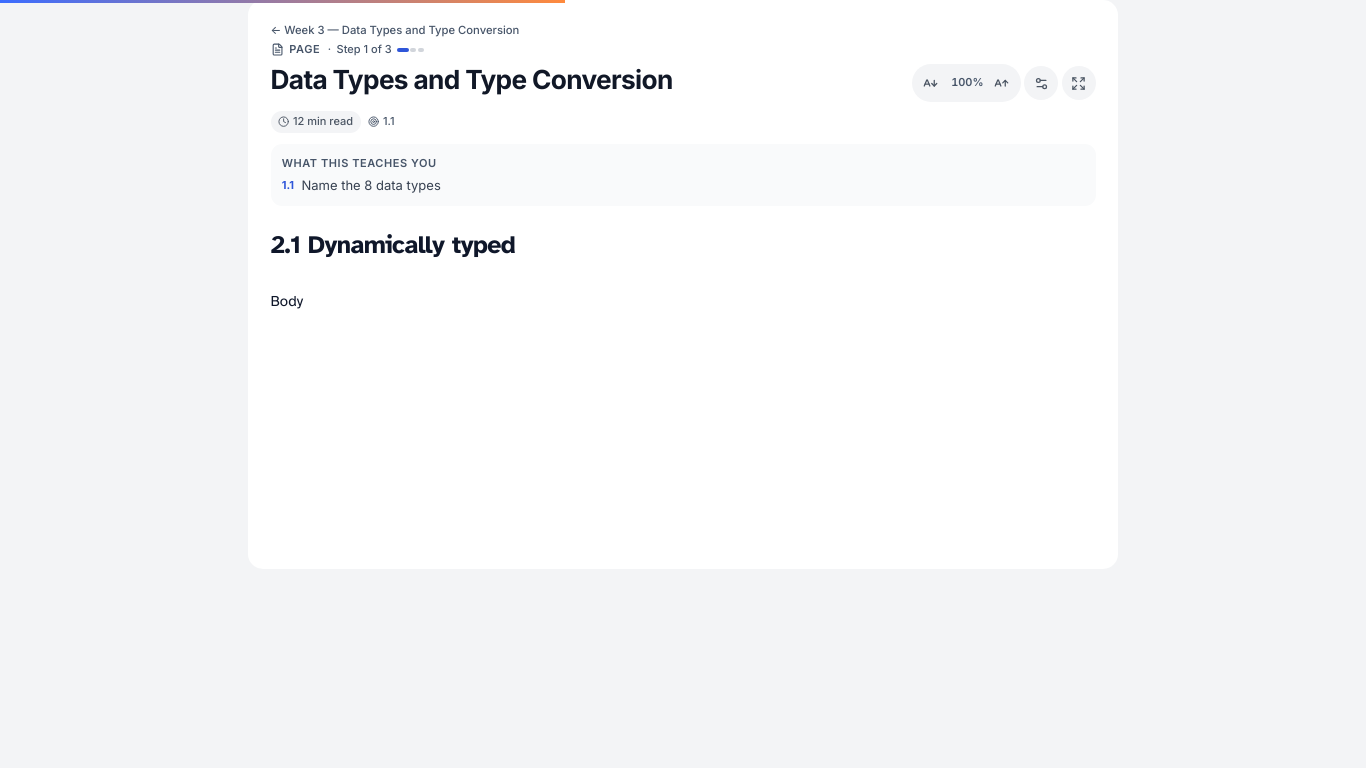
Test: ItemView — the lesson reader › opens an immersive reader that covers the app, and leaves it on Esc
The width and height of the screenshot is (1366, 768).
Click the button named "Focus mode" at (1079, 83), box [1062, 66, 1096, 100]
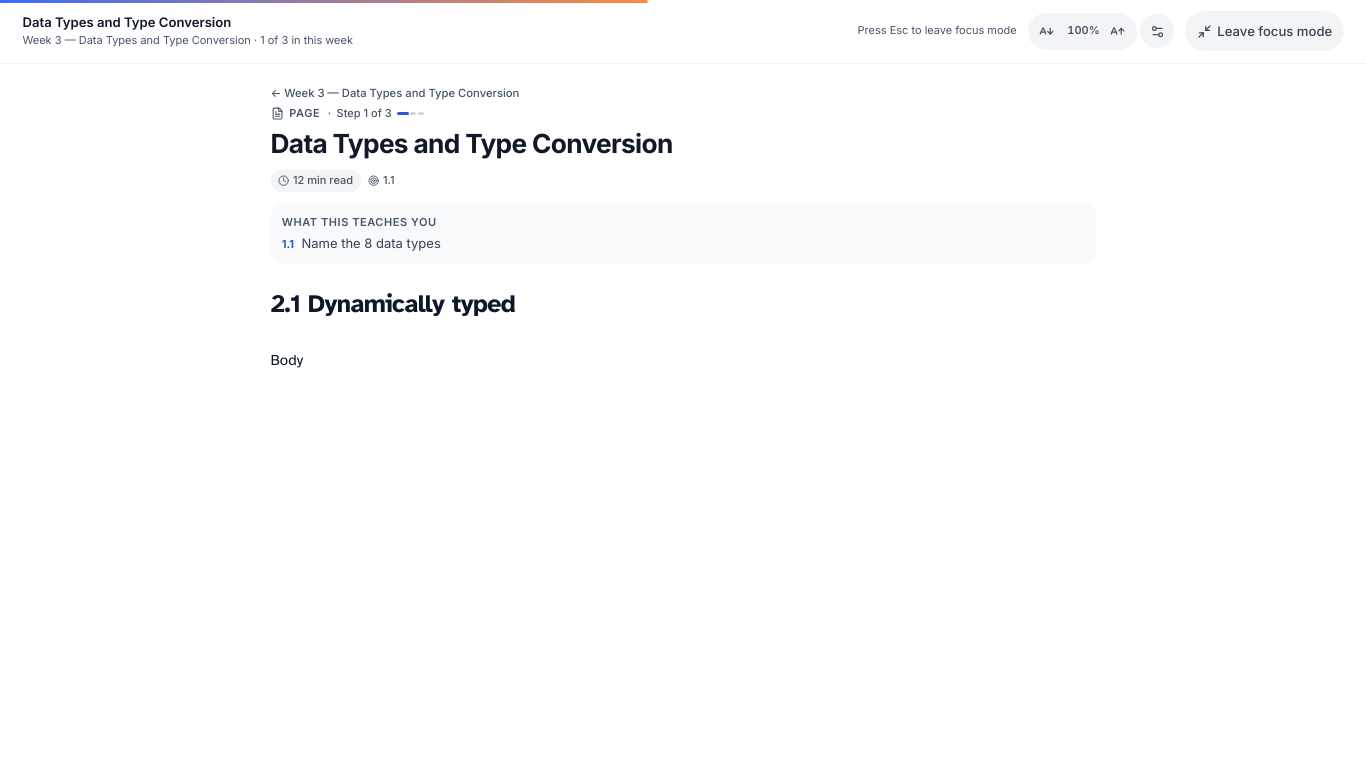
expect the element named "Focus mode" is shown: met
expect the text "1 of 3 in this week" is shown: met, box [260, 33, 353, 47]
Press Escape
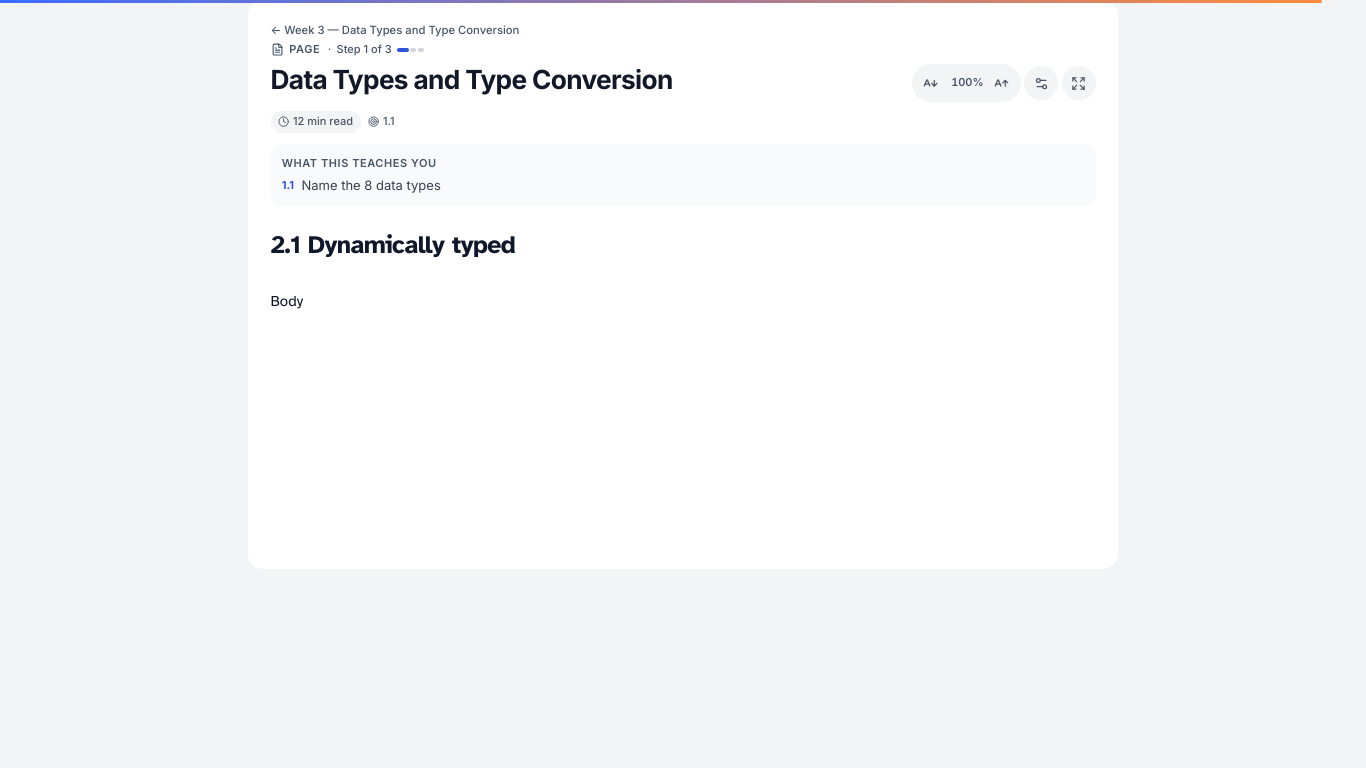
expect the text "focus mode" is gone: met
